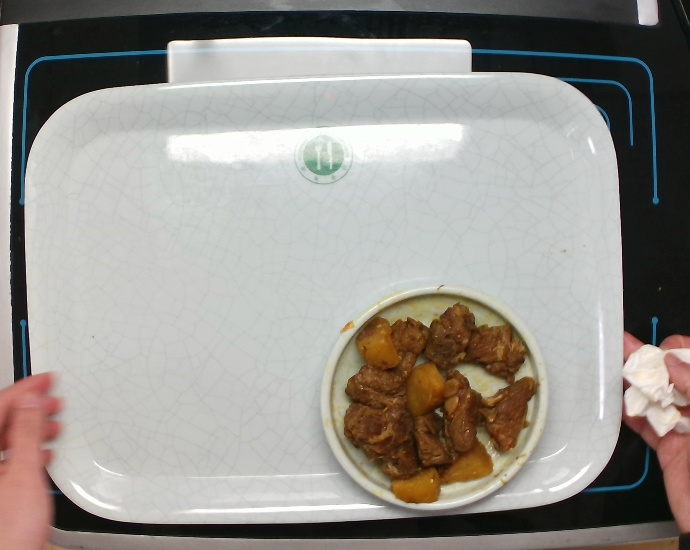JYsf-Xiao_Yuan_Pan: (317, 289, 548, 510)
